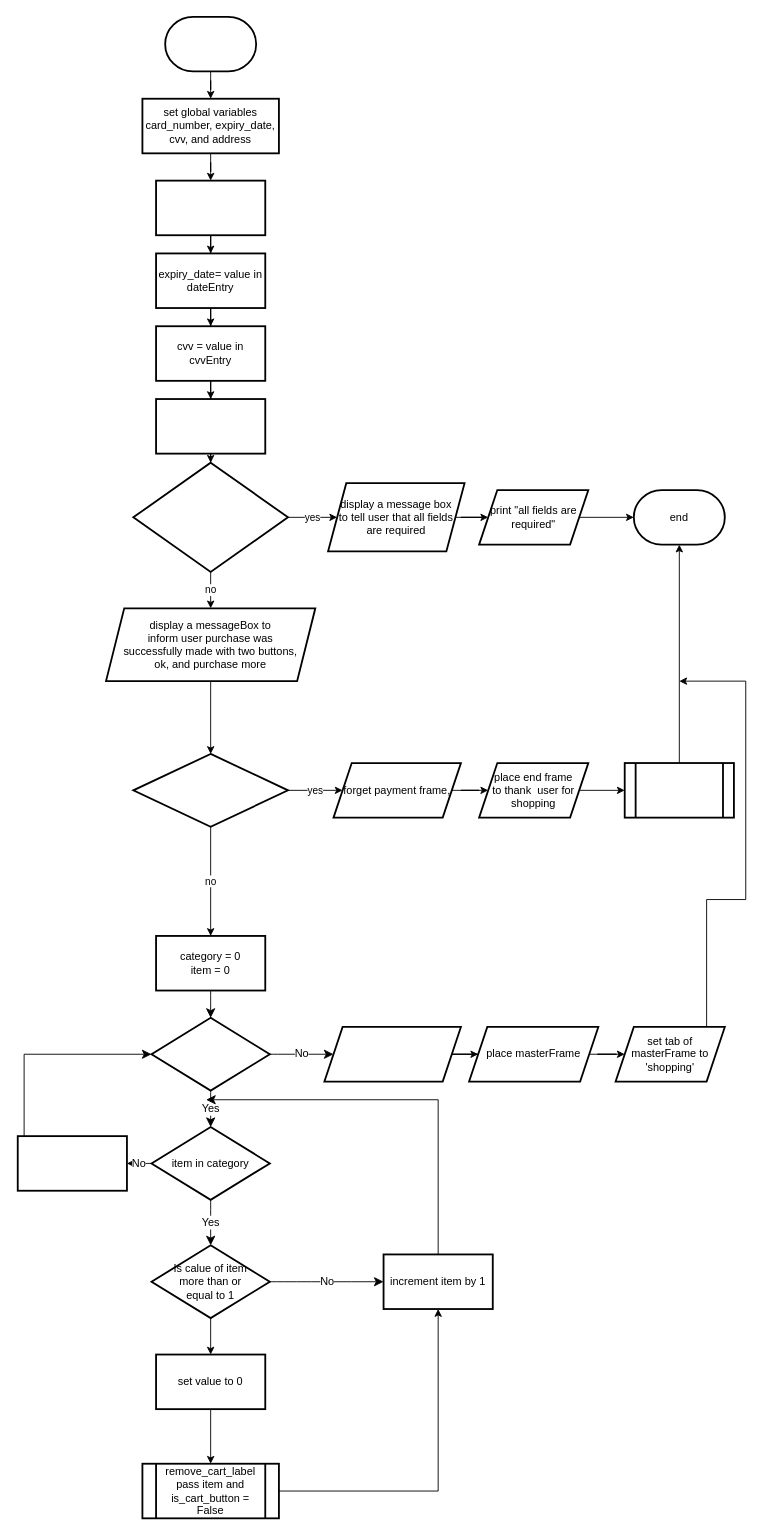
The diagram is 769 pixels wide and 1534 high, and some of its shapes have lost their labels. The shapes that lost their labels are listed below. From the top down, each one's box as (x1, y1, x2, y2) in pixels, then its label:
(164, 15, 257, 72): cart_validation
(155, 179, 266, 236): card_number = value in cardEntry
(155, 398, 266, 454): address = value in addressEntry
(132, 461, 288, 572): do any of the following not exist?: card_number, expiry_date, cvv, or address
(132, 753, 288, 827): was ok button pressed?
(623, 762, 734, 818): save_all_info()
(150, 1016, 270, 1091): category in cart
(323, 1026, 461, 1082): forget payment frame
(16, 1135, 127, 1191): increment category by 1
